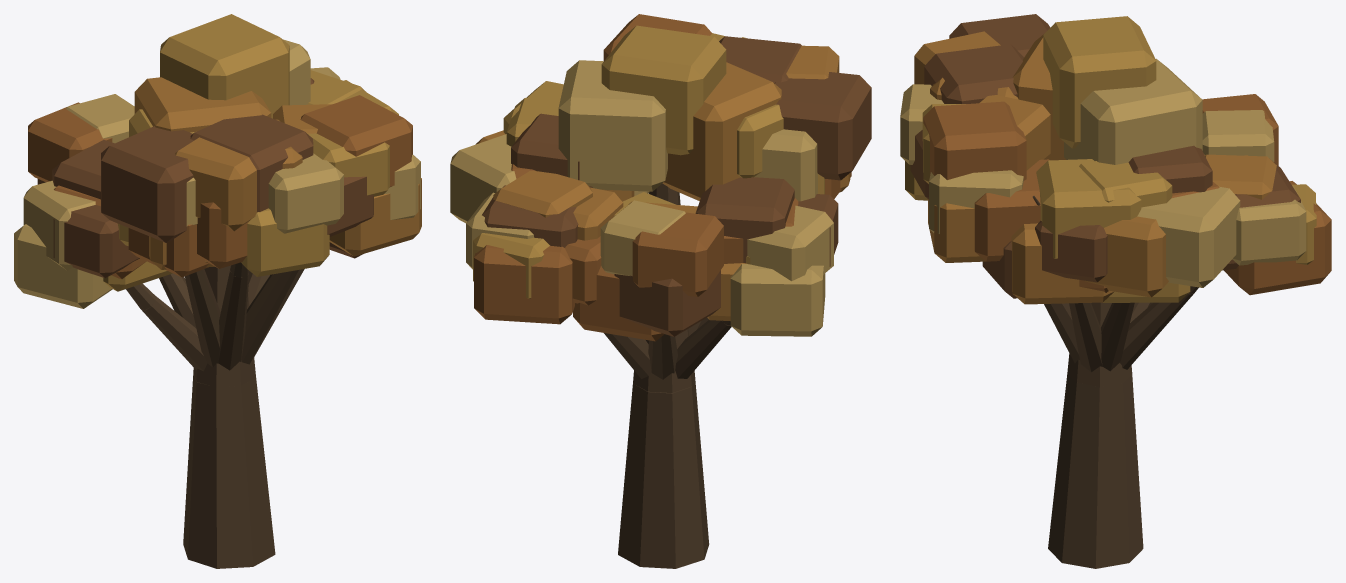
The model's file is oak_mature_autumn_2.glb.
The picture shows the model from 3 angles, left to right: view 1: azimuth 30°, elevation 25°; view 2: azimuth 150°, elevation 25°; view 3: azimuth 270°, elevation 25°; orthographic projection.
Parts seen in each view (by area): view 1: oak_mature_autumn_2; view 2: oak_mature_autumn_2; view 3: oak_mature_autumn_2.
Part boxes in pixels (bbox=[...]): oak_mature_autumn_2: bbox=[14, 14, 421, 568]; oak_mature_autumn_2: bbox=[450, 14, 871, 568]; oak_mature_autumn_2: bbox=[900, 14, 1331, 568].
Bounding box in the file's own units: 12.19 × 17 × 13.01.
